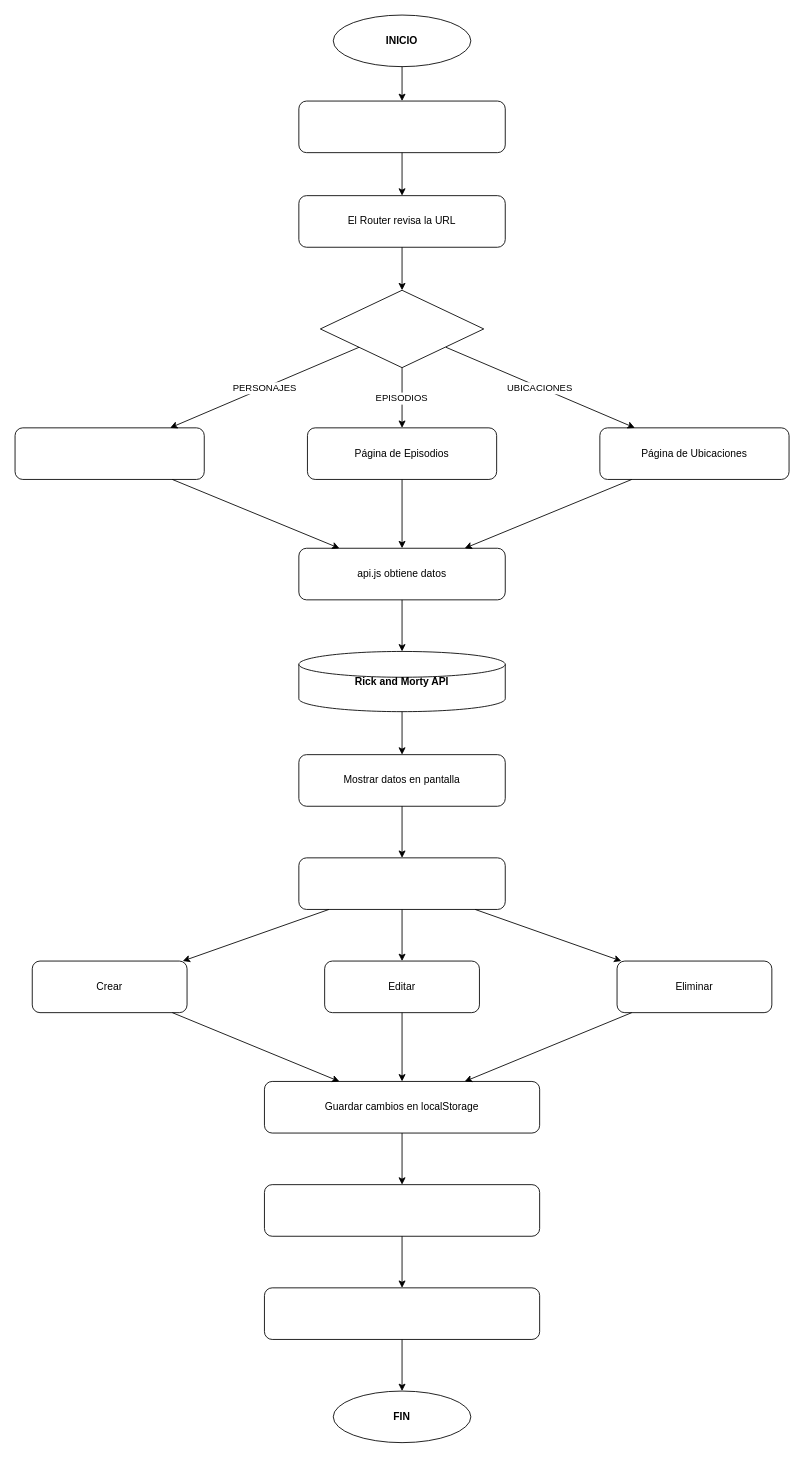
The diagram is 804 pixels wide and 1458 high, and some of its shapes have lost their labels. Each missing label, with the centre of its shape:
Actualizar pantalla sin recargar: point (402, 1210)
CRUD de Personajes: point (401, 883)
Mostrar mensajes y errores: point (402, 1313)
Página de Personajes: point (109, 453)
Usuario abre la app: point (401, 126)
¿Qué sección abrir?: point (401, 328)
